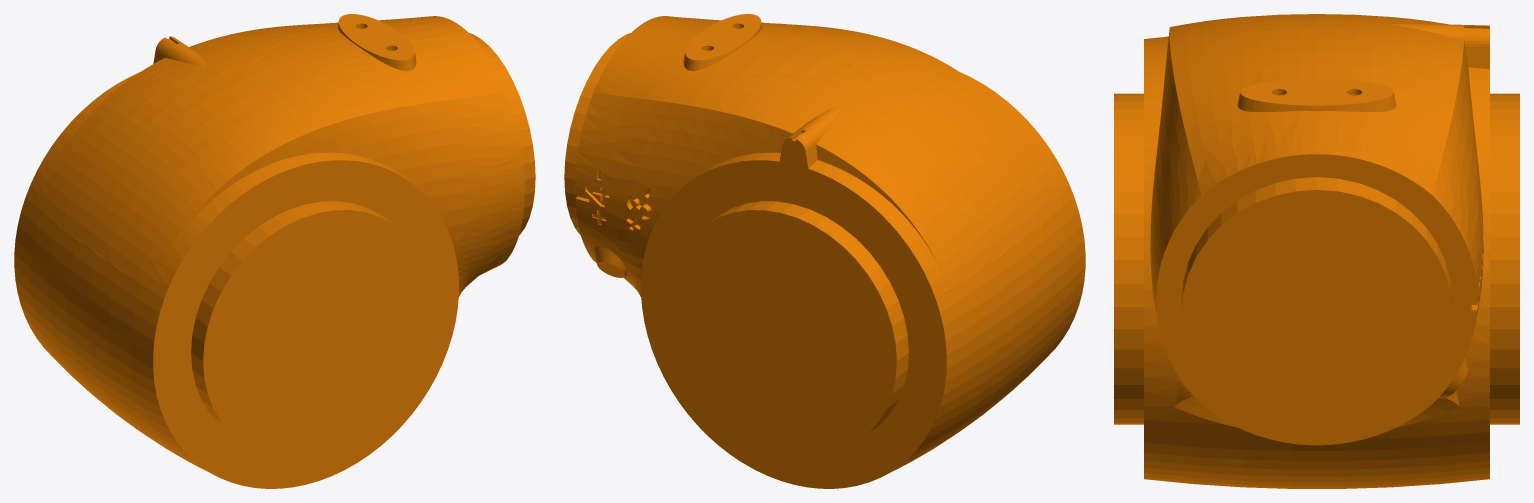
3 views of the same model, side by side, from view 1: azimuth 30°, elevation 25°; view 2: azimuth 150°, elevation 25°; view 3: azimuth 270°, elevation 25° (orthographic). The views are drawn at different scales.
Parts seen in each view (by area): view 1: Link 3; view 2: Link 3; view 3: Link 3.
Part boxes in pixels (box(x1,y1,x2,y2)): Link 3: box(14, 14, 535, 488); Link 3: box(564, 14, 1085, 488); Link 3: box(1114, 14, 1519, 488).
Size of the model in its own units: 19.34 by 16.89 by 13.5.
